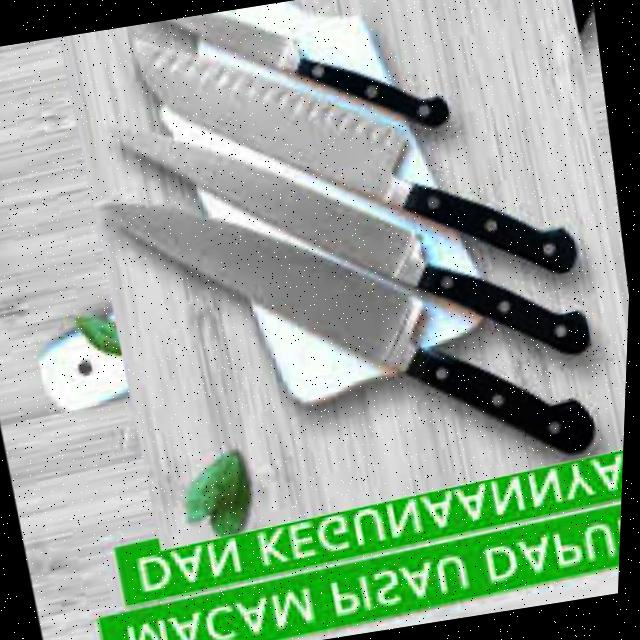knife: (91, 129, 612, 523), (108, 59, 606, 422), (119, 0, 593, 336), (147, 0, 454, 167)
